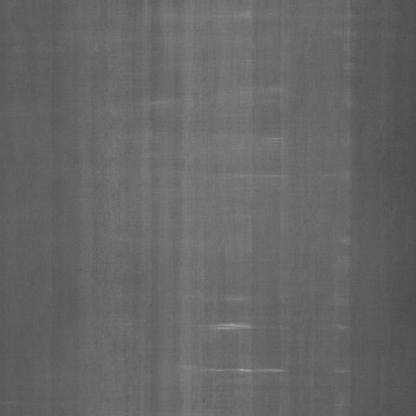waist_folding: (155, 7, 380, 412)
